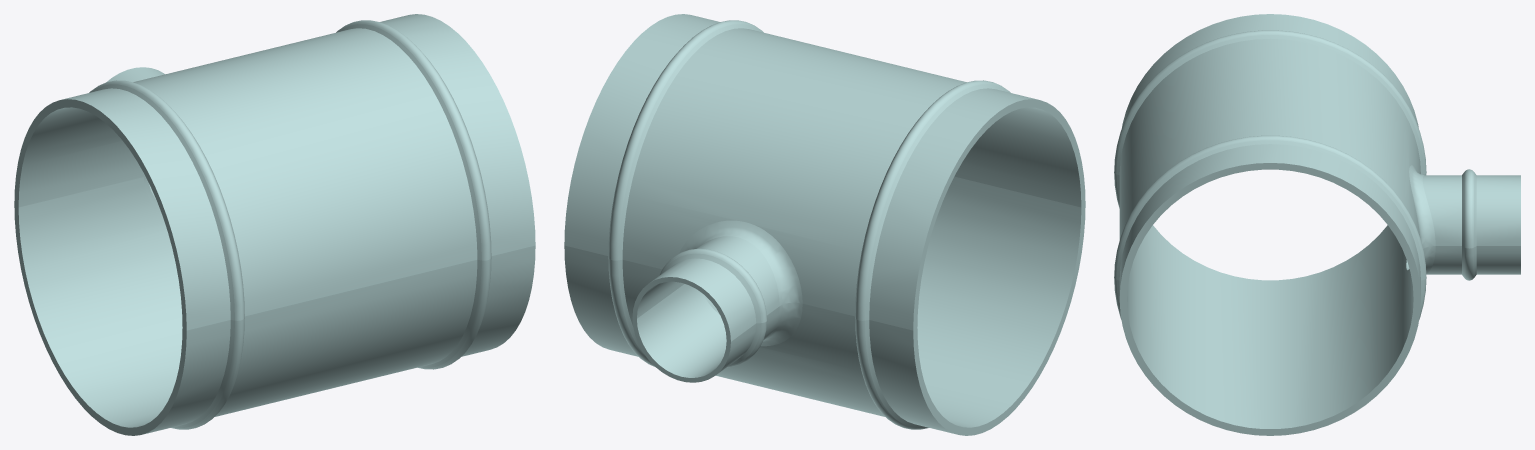
3 renders of one model, left to right at view 1: azimuth 30°, elevation 25°; view 2: azimuth 150°, elevation 25°; view 3: azimuth 270°, elevation 25°, orthographic. The views are drawn at different scales.
Bounding box in the file's own units: 239 × 212 × 276.
